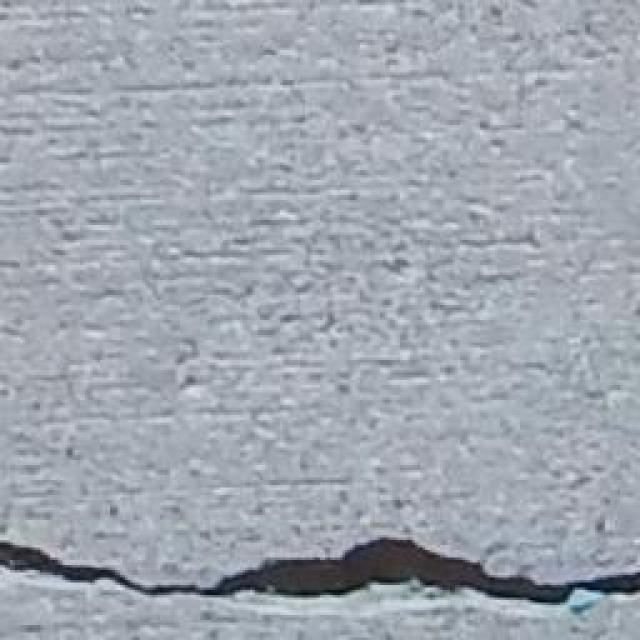concrete-crack: (3, 528, 640, 611)
